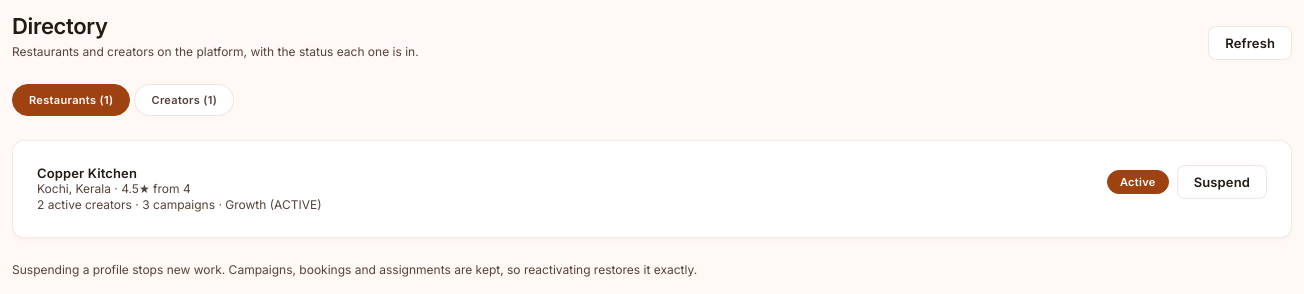
Test: AdminDirectory › switches to creators and lists their workload
The image size is (1304, 294).
Expected: the text "Copper Kitchen" is shown, top-left (37, 165), bottom-right (137, 181)
Click the tab "Creators (1)": (184, 100) top-left (134, 84), bottom-right (234, 116)
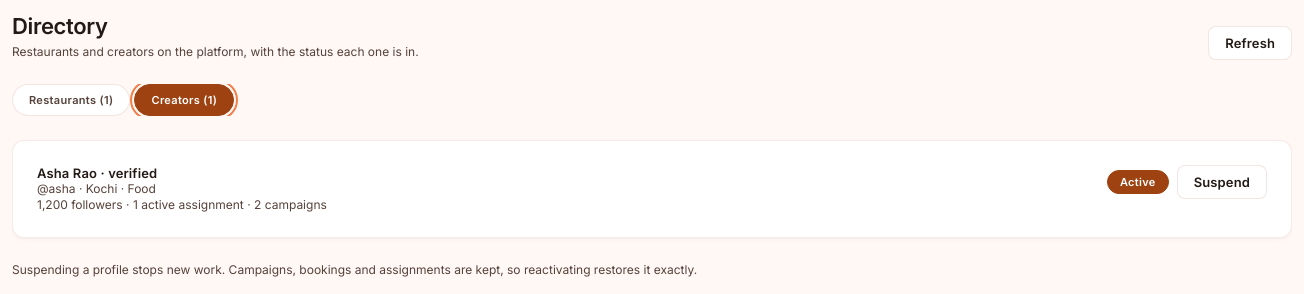
Expected: the text "Asha Rao · verified" is shown, top-left (37, 165), bottom-right (157, 181)
Expected: the text "1,200 followers · 1 active assignment · 2 campaigns" is shown, top-left (37, 197), bottom-right (327, 213)
